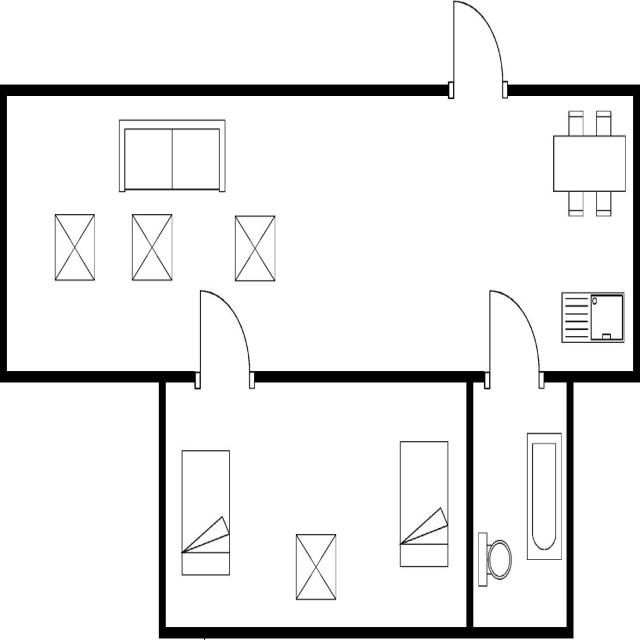bed: (397, 436, 449, 570), (180, 446, 232, 578)
coffee_table: (51, 209, 97, 285), (128, 209, 174, 285), (231, 210, 277, 284), (292, 528, 338, 602)
dining_table: (550, 106, 628, 220)
large_sink: (476, 526, 513, 592)
large_sofa: (115, 113, 228, 199)
sink: (558, 287, 626, 347)
tub: (524, 429, 564, 563)
